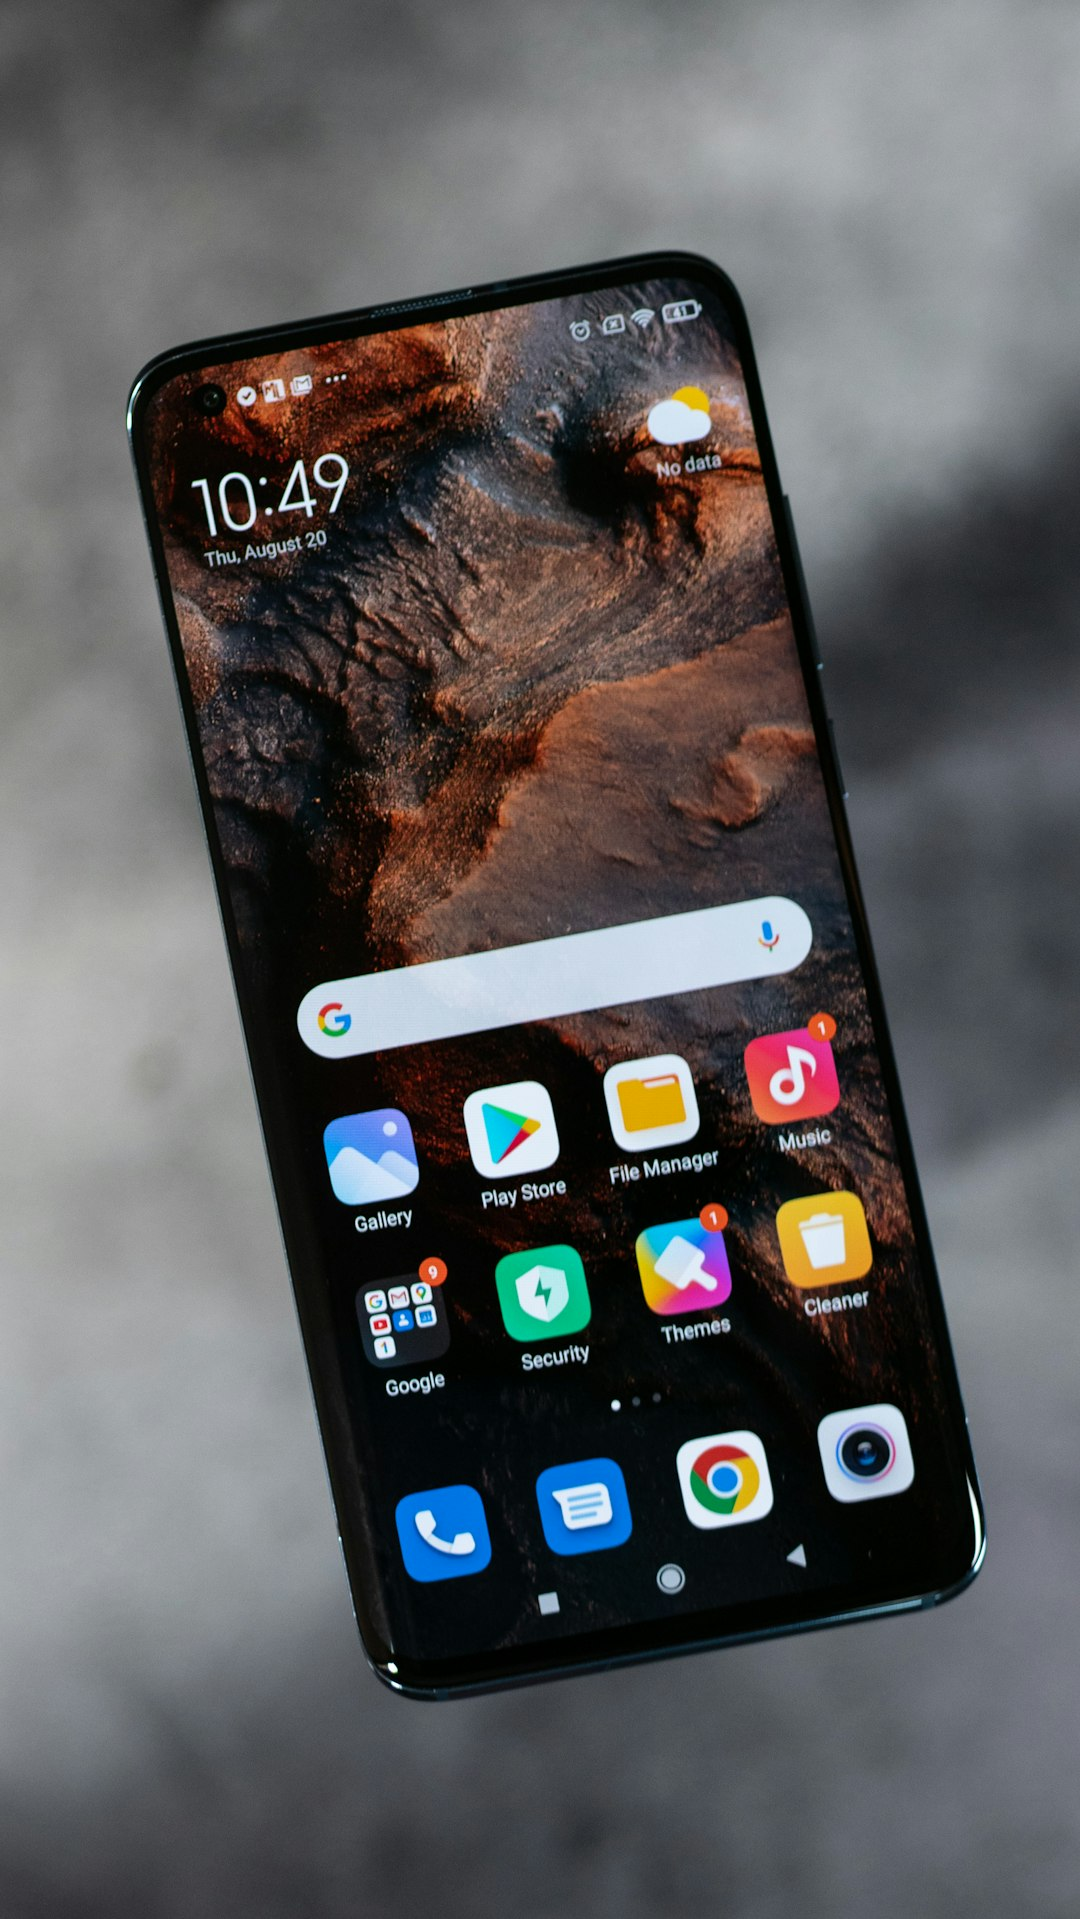phone: (127, 250, 988, 1705)
